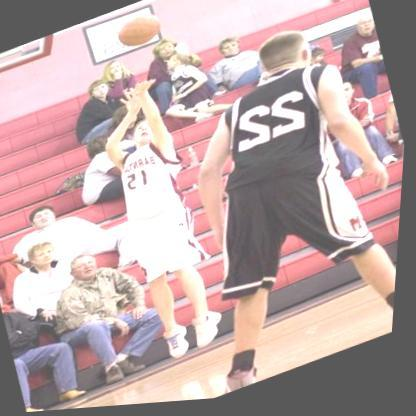basketball: (112, 9, 169, 54)
